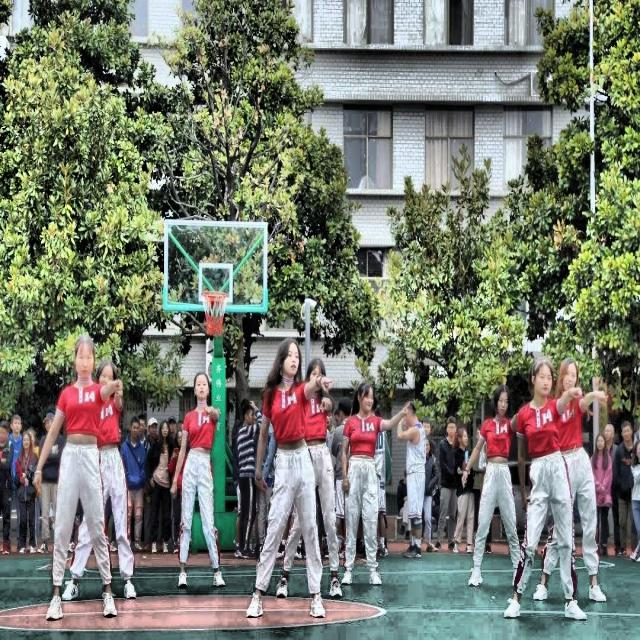rim: (200, 290, 228, 336)
